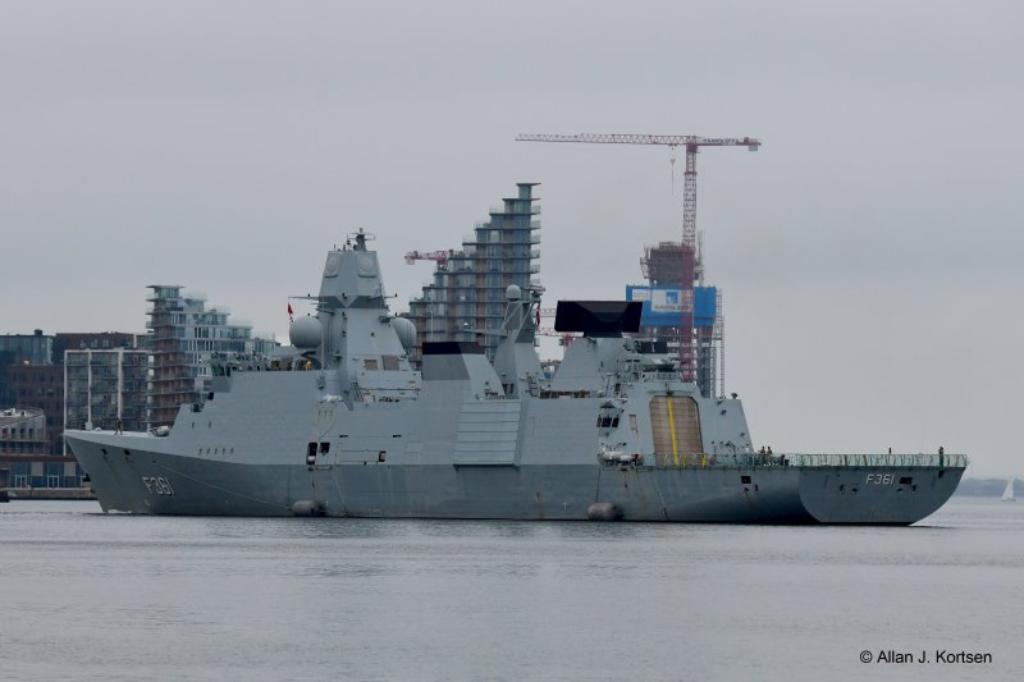Warship: (62, 212, 972, 528)
